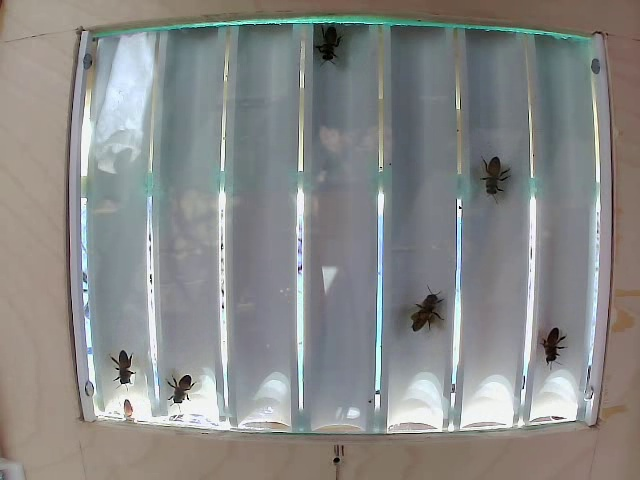bee: (527, 307, 579, 365), (471, 143, 516, 208), (395, 286, 438, 347), (98, 344, 150, 389), (169, 360, 205, 411), (317, 14, 350, 64)
